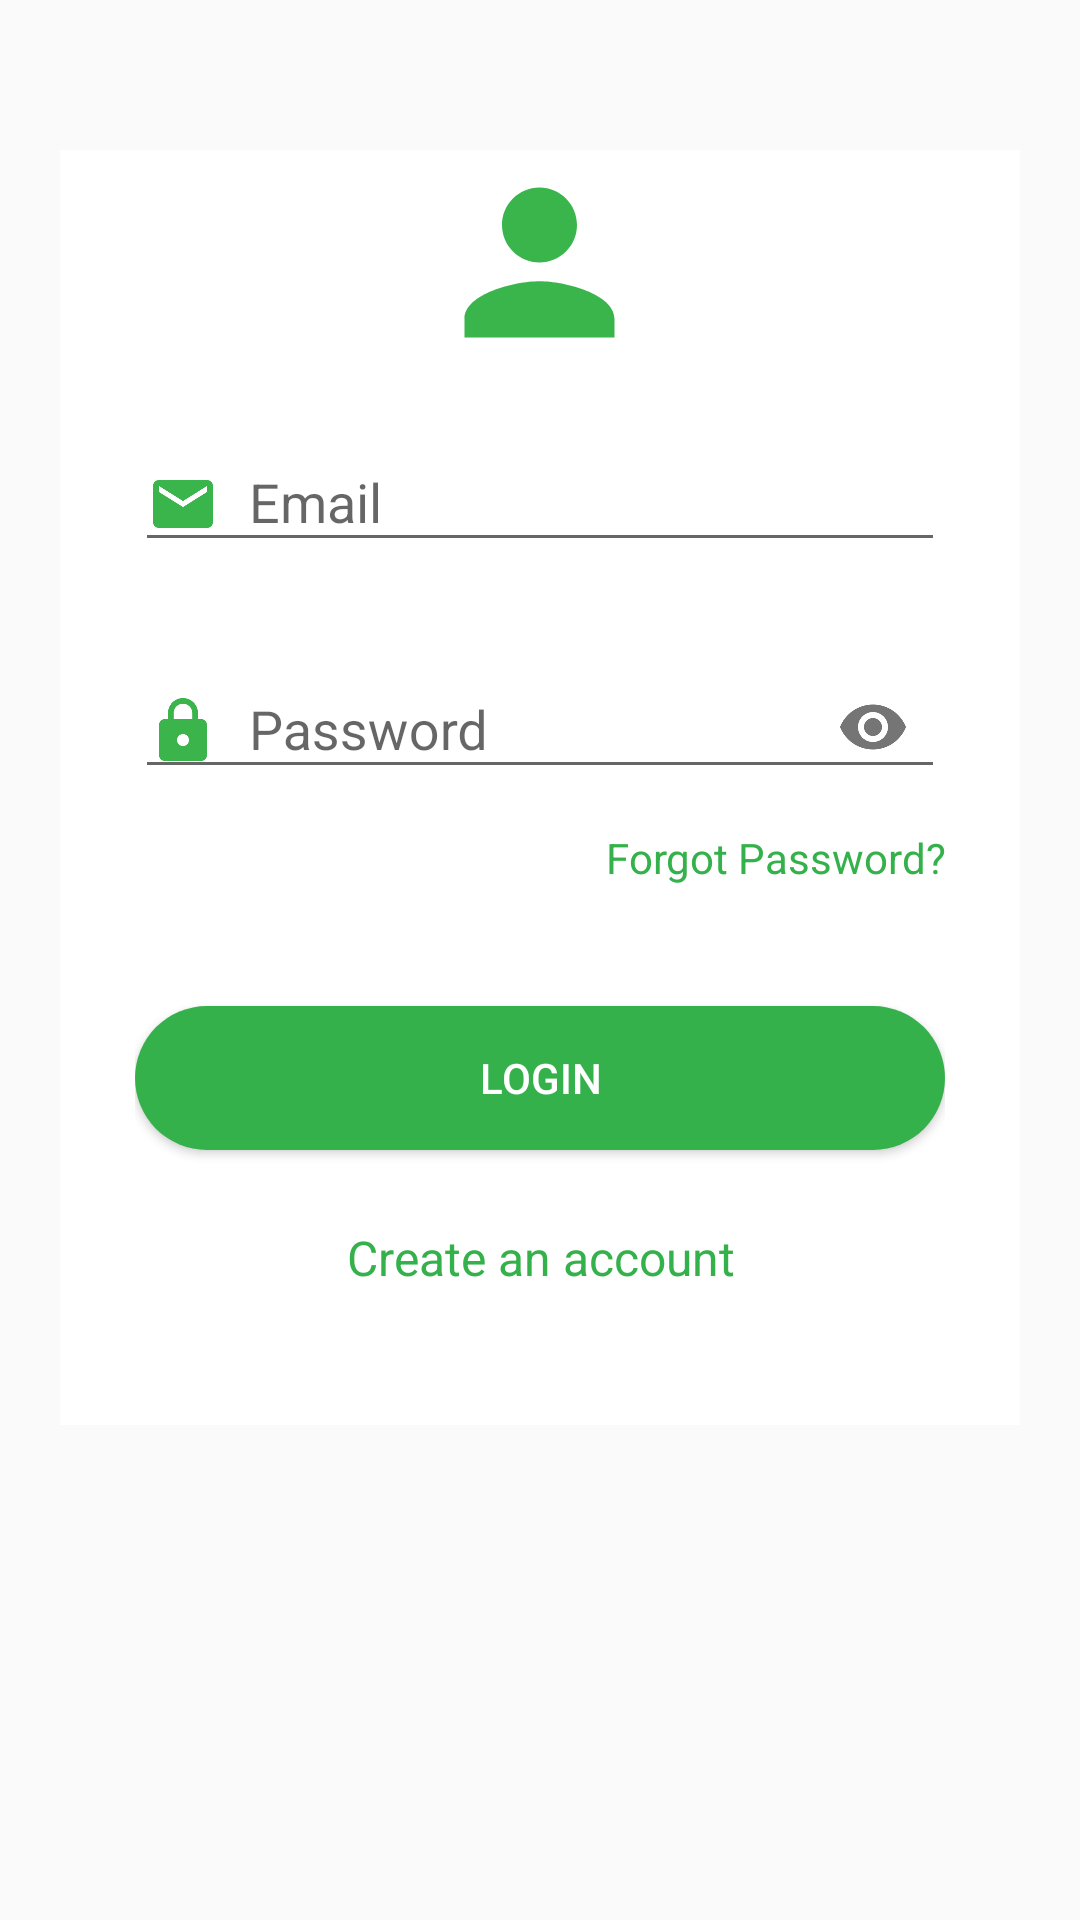

Named icons in this screenshot (1080 × 1920) and their bounding boxes, {"left": x1, "top": y1, "right": x2, "bottom": y2}:
person: {"left": 464, "top": 187, "right": 615, "bottom": 338}
